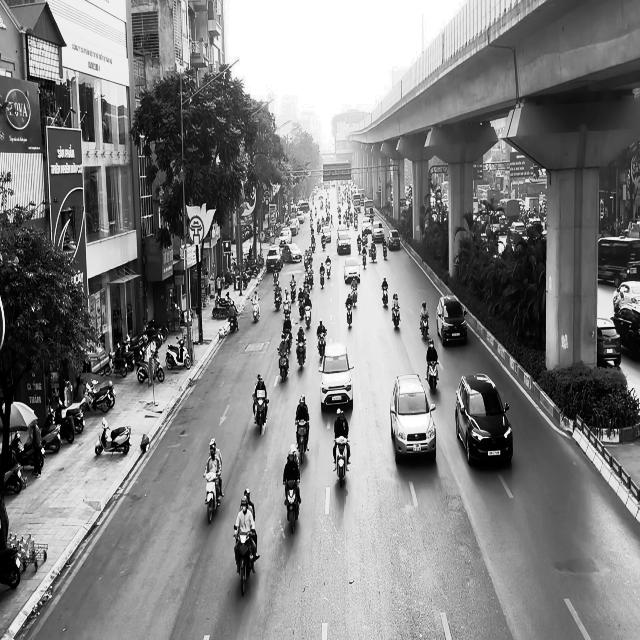car: (455, 372, 513, 467), (390, 373, 436, 464), (318, 341, 354, 410), (436, 295, 467, 347), (597, 316, 621, 368), (344, 257, 360, 283), (388, 229, 400, 250)
motorbike: (233, 526, 257, 596), (95, 416, 131, 456), (203, 471, 223, 523), (283, 478, 301, 534), (332, 437, 350, 488), (252, 392, 268, 436), (295, 418, 309, 464), (278, 348, 290, 382), (426, 359, 438, 392), (296, 336, 306, 371), (251, 297, 260, 323), (420, 314, 428, 340), (391, 306, 400, 329), (345, 300, 352, 327), (381, 286, 388, 307)
